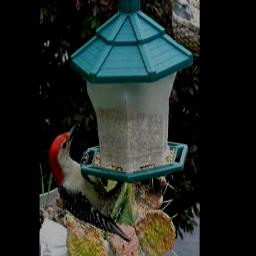Woodpecker: (49, 120, 132, 241)
